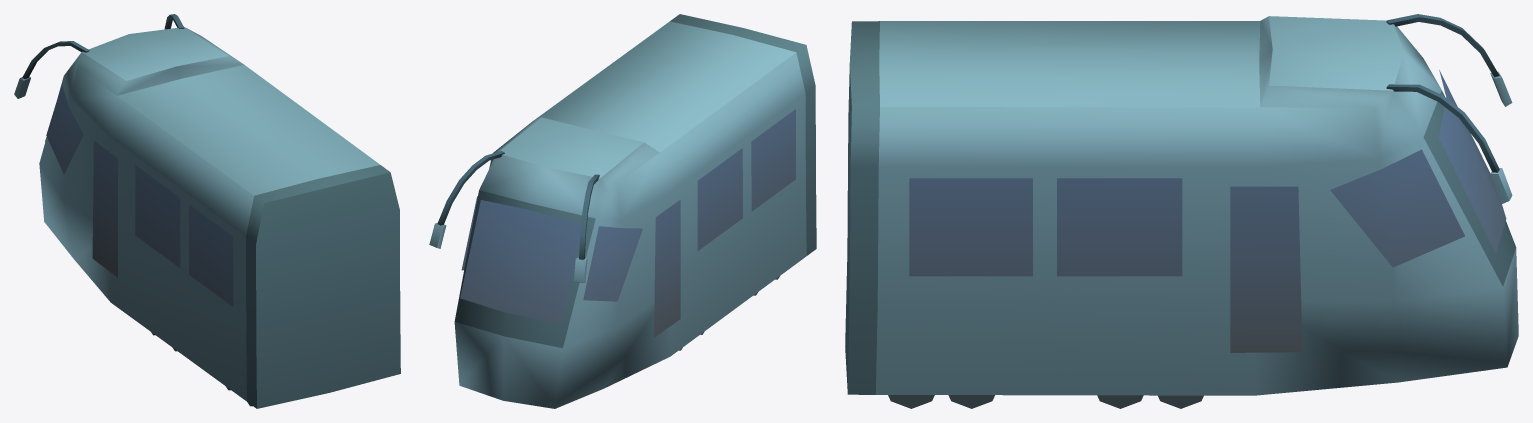
The model's file is vehicles-buses-trains-tram_v1.fbx.
3 renders of one model, left to right at view 1: azimuth 30°, elevation 25°; view 2: azimuth 150°, elevation 25°; view 3: azimuth 270°, elevation 25°, orthographic. The views are drawn at different scales.
Visible parts, largest first — view 1: Tram; view 2: Tram; view 3: Tram.
Part boxes in pixels (box(x1,y1,x2,y2)): Tram: box(14, 14, 400, 408); Tram: box(429, 14, 816, 408); Tram: box(845, 14, 1518, 408).
Size of the model in its own units: 9.18 by 13.17 by 25.
